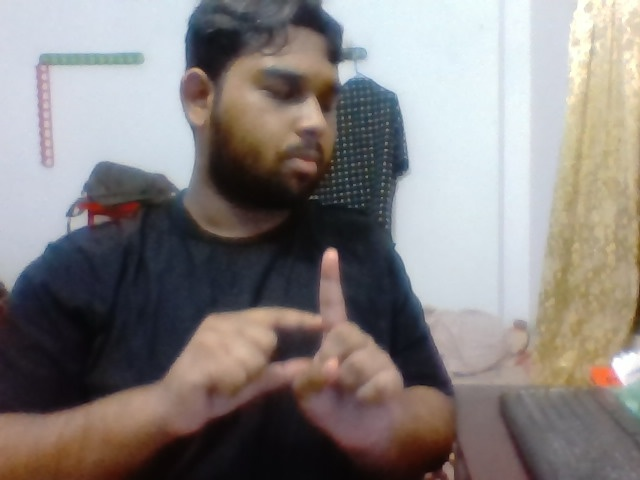D: (170, 242, 412, 434)
